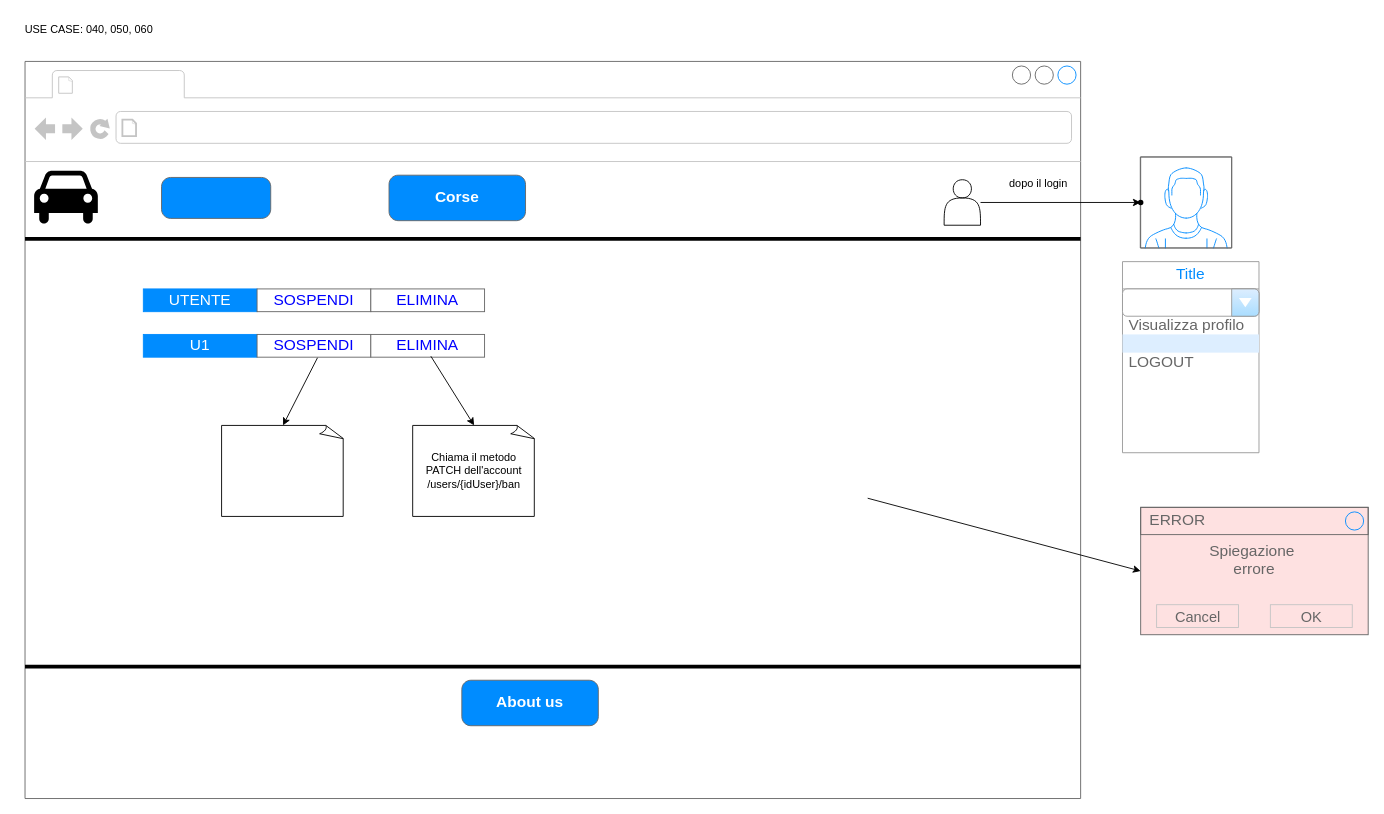
Image size: 1384x814. Some labels were removed from this diagram. Each missing label, with the centre of its shape:
"Chiama il metodo PATCH dell'utente /users/{idUser}/suspend" belongs at (282,470).
"dropdown" belongs at (1190,302).
"Home" belongs at (216,197).
"https://www.mypersonaldriver/documents.it" belongs at (256,127).
"Page 1" belongs at (129,83).
